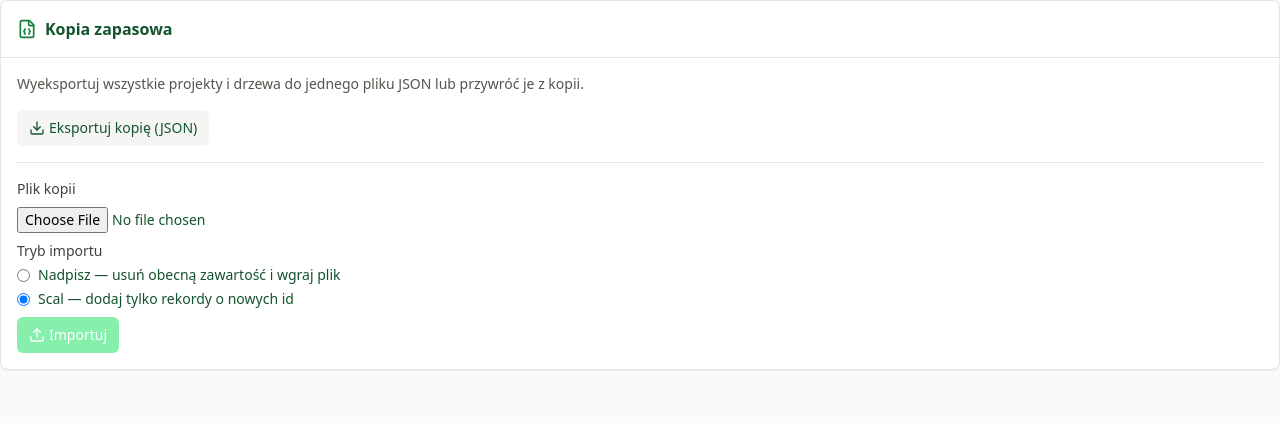
Test: BackupPanel › should export current data and show success message
Click the button with test id "backup-export".
click(113, 128)  # box [17,110,209,146]
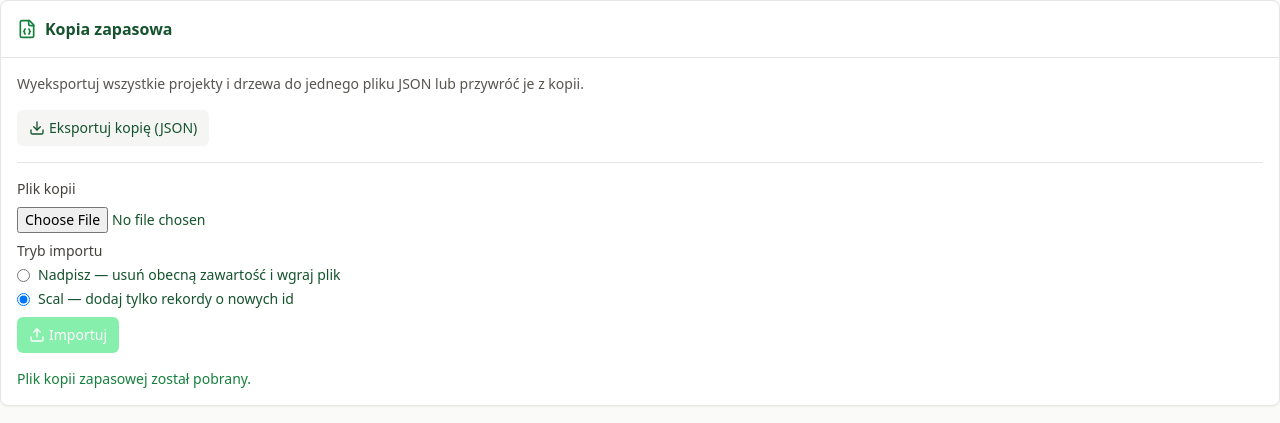
Check: the message with test id "backup-success" shows "pobrany", box [17,369,251,388]
